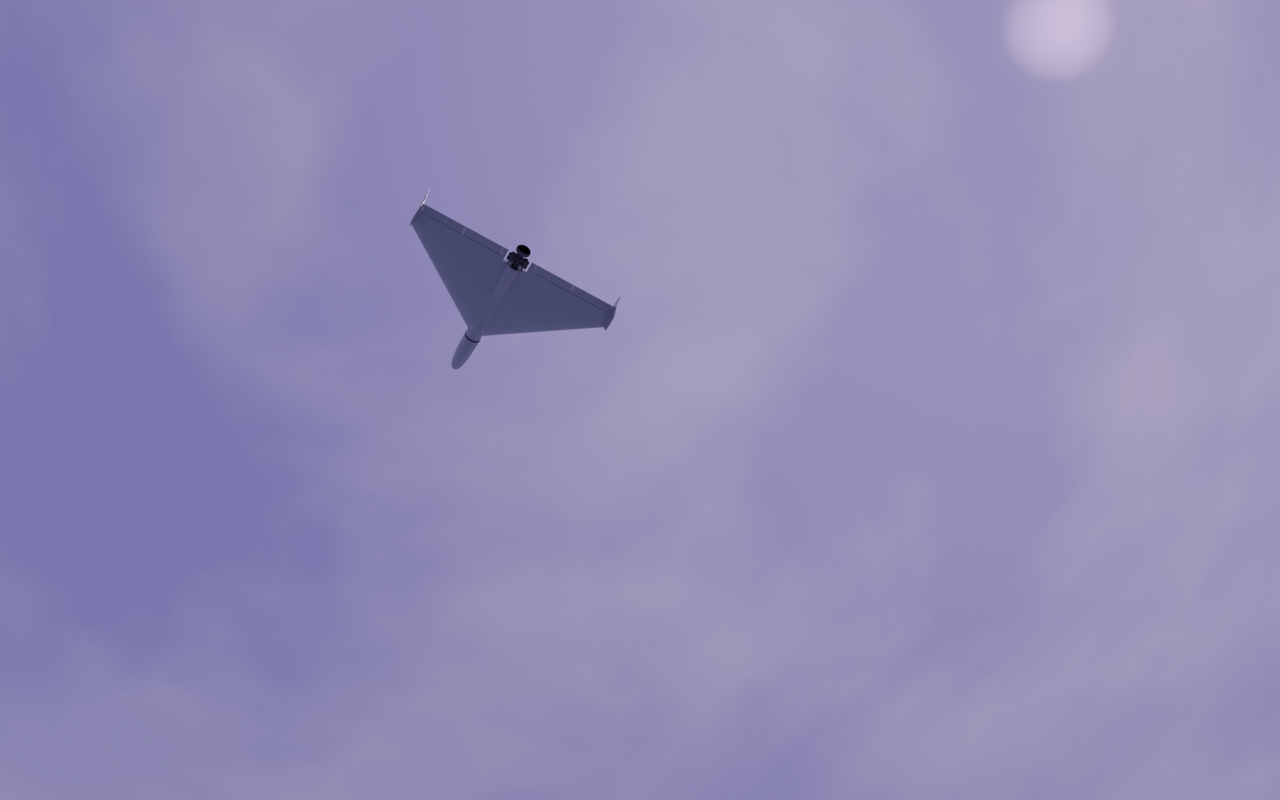shahed: (410, 189, 624, 372)
